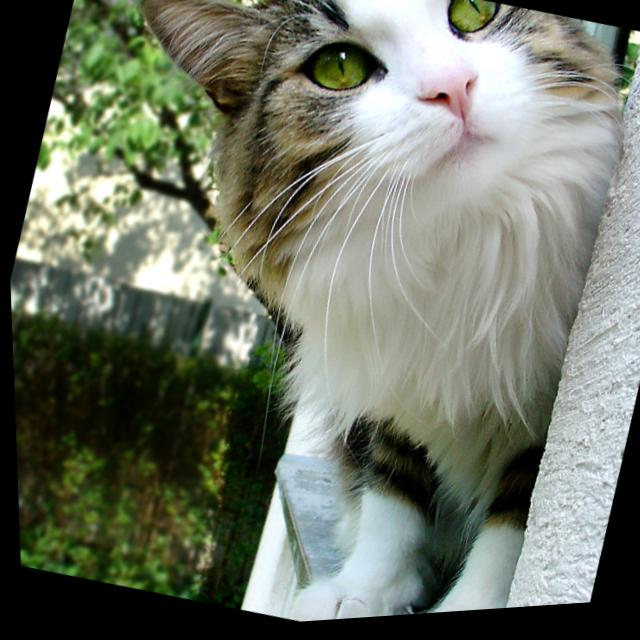animals: (124, 0, 512, 185)
